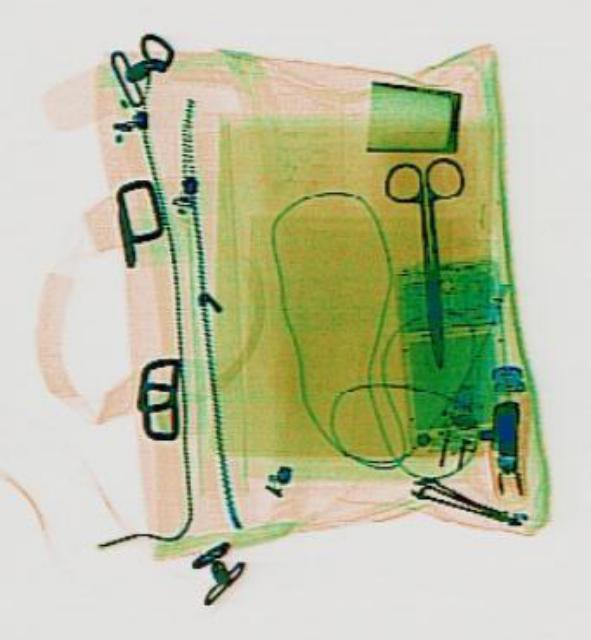Scissors: (378, 154, 476, 368)
